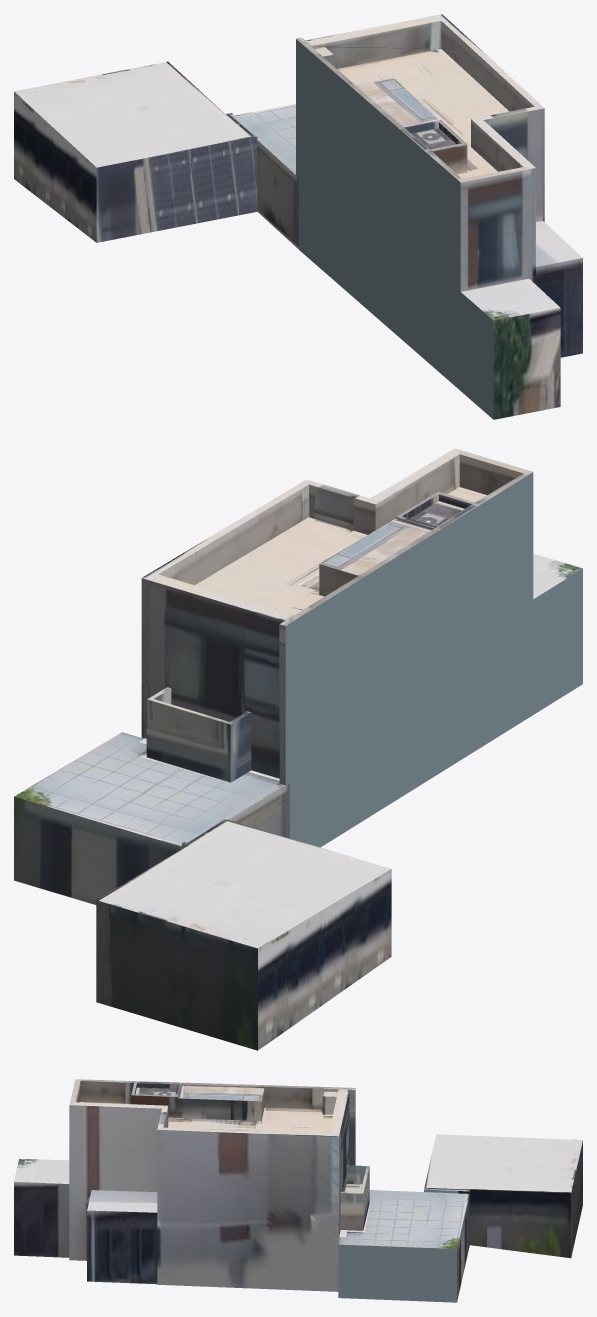
3 views of the same model, one above another, from view 1: azimuth 30°, elevation 25°; view 2: azimuth 150°, elevation 25°; view 3: azimuth 270°, elevation 25° (orthographic). The views are drawn at different scales.
Visible parts, largest first — view 1: B284544037401062A0; view 2: B284544037401062A0; view 3: B284544037401062A0.
Boxes of the visible parts, bbox=[...] form: B284544037401062A0: bbox=[14, 14, 582, 419]; B284544037401062A0: bbox=[14, 448, 582, 1050]; B284544037401062A0: bbox=[14, 1079, 582, 1302].
Size of the model in its own units: 14.34 by 9.77 by 30.69.
Materials: 1 (1 with a texture image).
